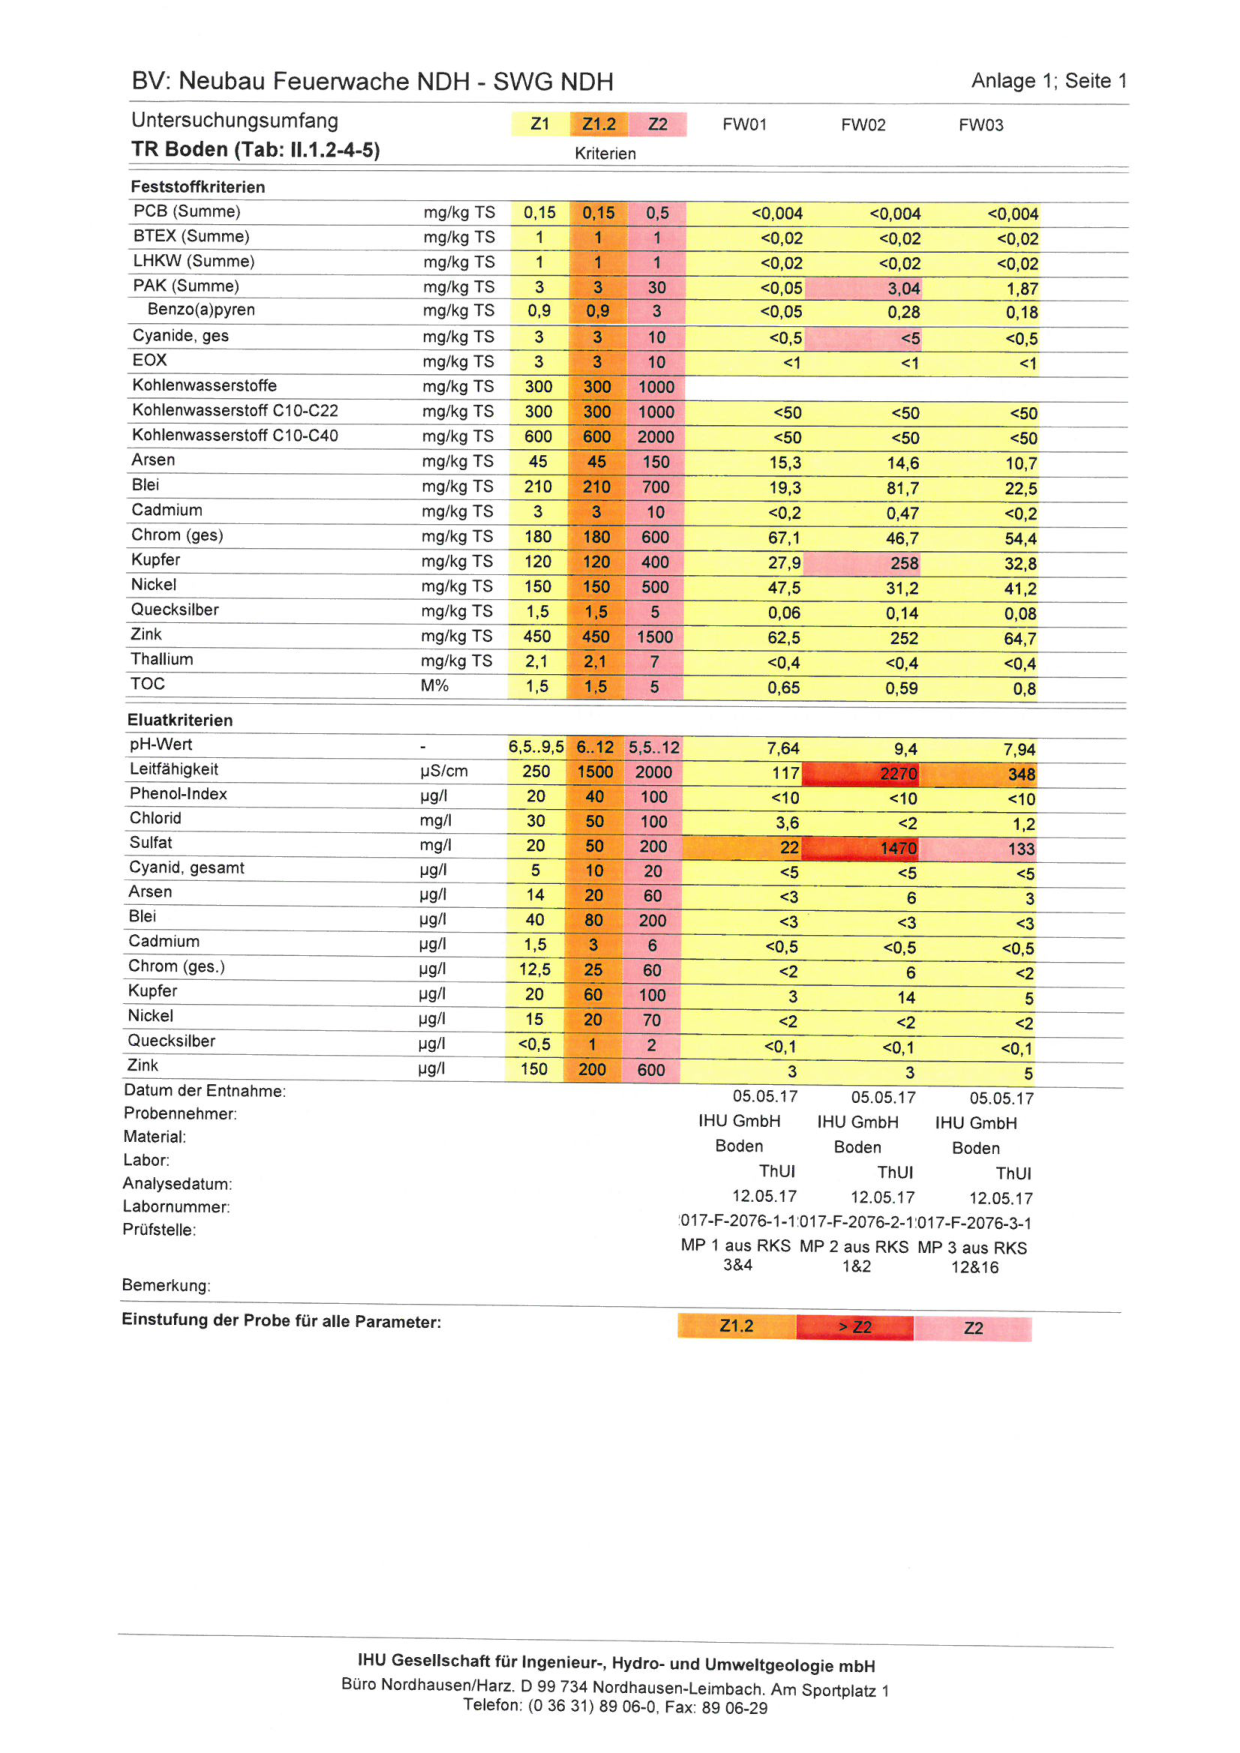table: (123, 173, 1074, 703), (111, 709, 1044, 1081)
